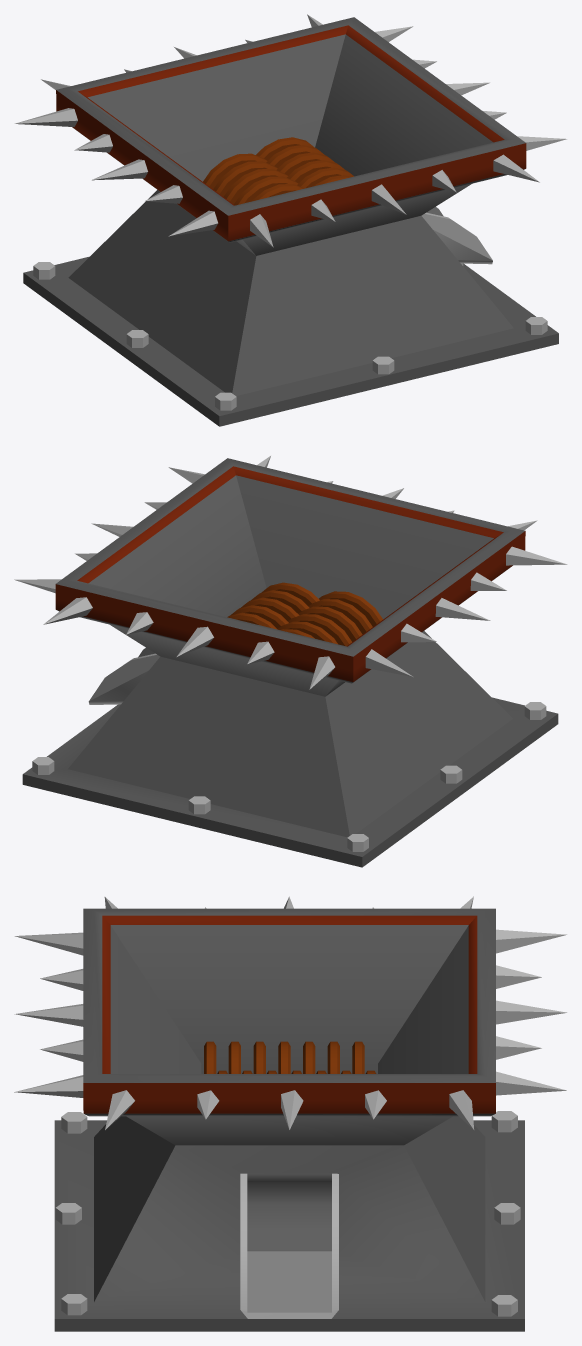
Rendered from Mixer.fbx.
The picture shows the model from 3 angles, top to bottom: view 1: azimuth 30°, elevation 25°; view 2: azimuth 150°, elevation 25°; view 3: azimuth 270°, elevation 25°; orthographic projection. The views are drawn at different scales.
Visible parts, largest first — view 1: Body, Rotor1, Rotor2; view 2: Body, Rotor1, Rotor2; view 3: Body, Rotor1.
Part boxes in pixels (box(x1,y1,x2,y2)): Body: box(14, 14, 566, 426); Rotor1: box(203, 153, 304, 205); Rotor2: box(256, 137, 353, 188); Body: box(14, 456, 567, 867); Rotor1: box(277, 591, 382, 646); Rotor2: box(227, 582, 319, 629); Body: box(14, 896, 566, 1331); Rotor1: box(204, 1041, 364, 1073).
Size of the model in its own units: 4.76 by 2.26 by 4.76.
